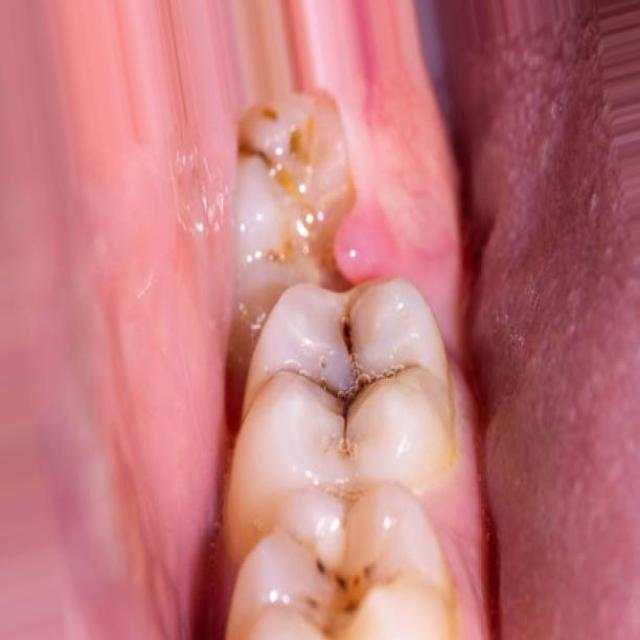caries: (297, 283, 424, 453), (254, 509, 420, 639), (235, 95, 346, 252)
